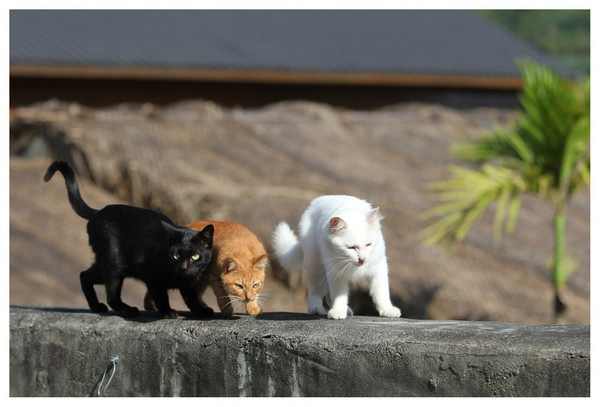cat: (43, 160, 216, 321), (271, 194, 402, 320), (183, 219, 269, 317)
